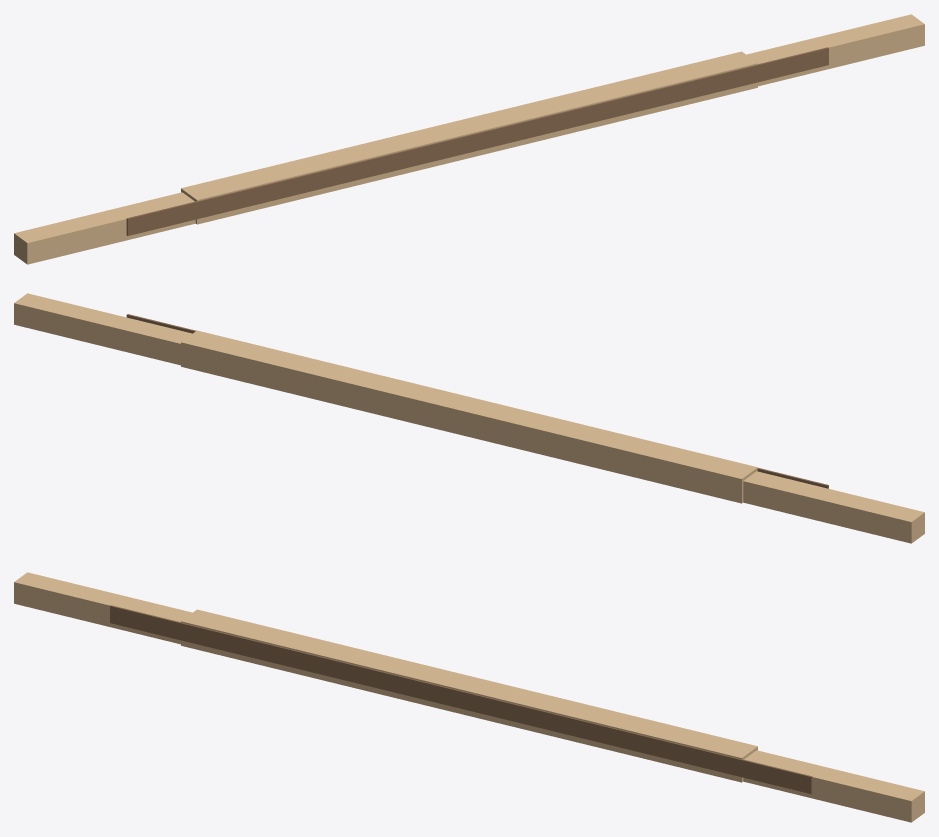
Rendered from prop-stave-blank.fbx.
The picture shows the model from 3 angles, top to bottom: view 1: azimuth 30°, elevation 25°; view 2: azimuth 150°, elevation 25°; view 3: azimuth 330°, elevation 25°; orthographic projection.
Visible parts, largest first — view 1: prop-stave-blank; view 2: prop-stave-blank; view 3: prop-stave-blank.
Part boxes in pixels (left/top/right/bottom): prop-stave-blank: left=14, top=14, right=924, bottom=264; prop-stave-blank: left=14, top=293, right=924, bottom=543; prop-stave-blank: left=14, top=572, right=924, bottom=822.
Size of the model in its own units: 192 by 5 by 6.3.
